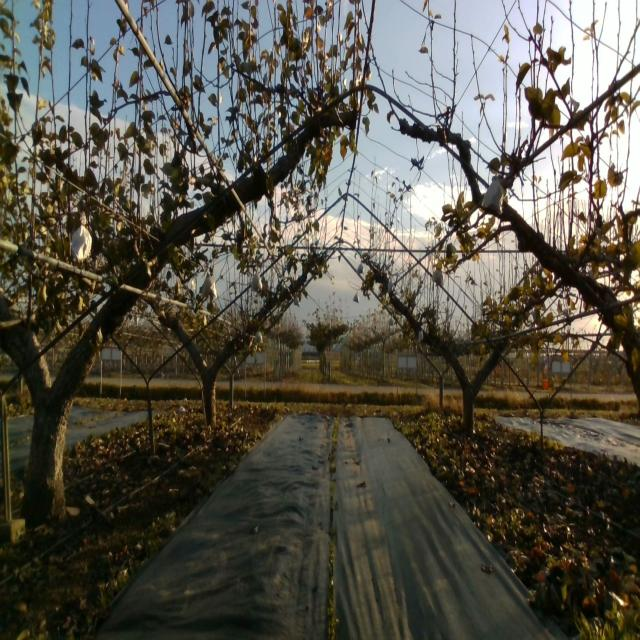pearbags: (480, 172, 504, 217), (72, 212, 93, 262), (202, 274, 218, 300), (250, 271, 262, 292)
